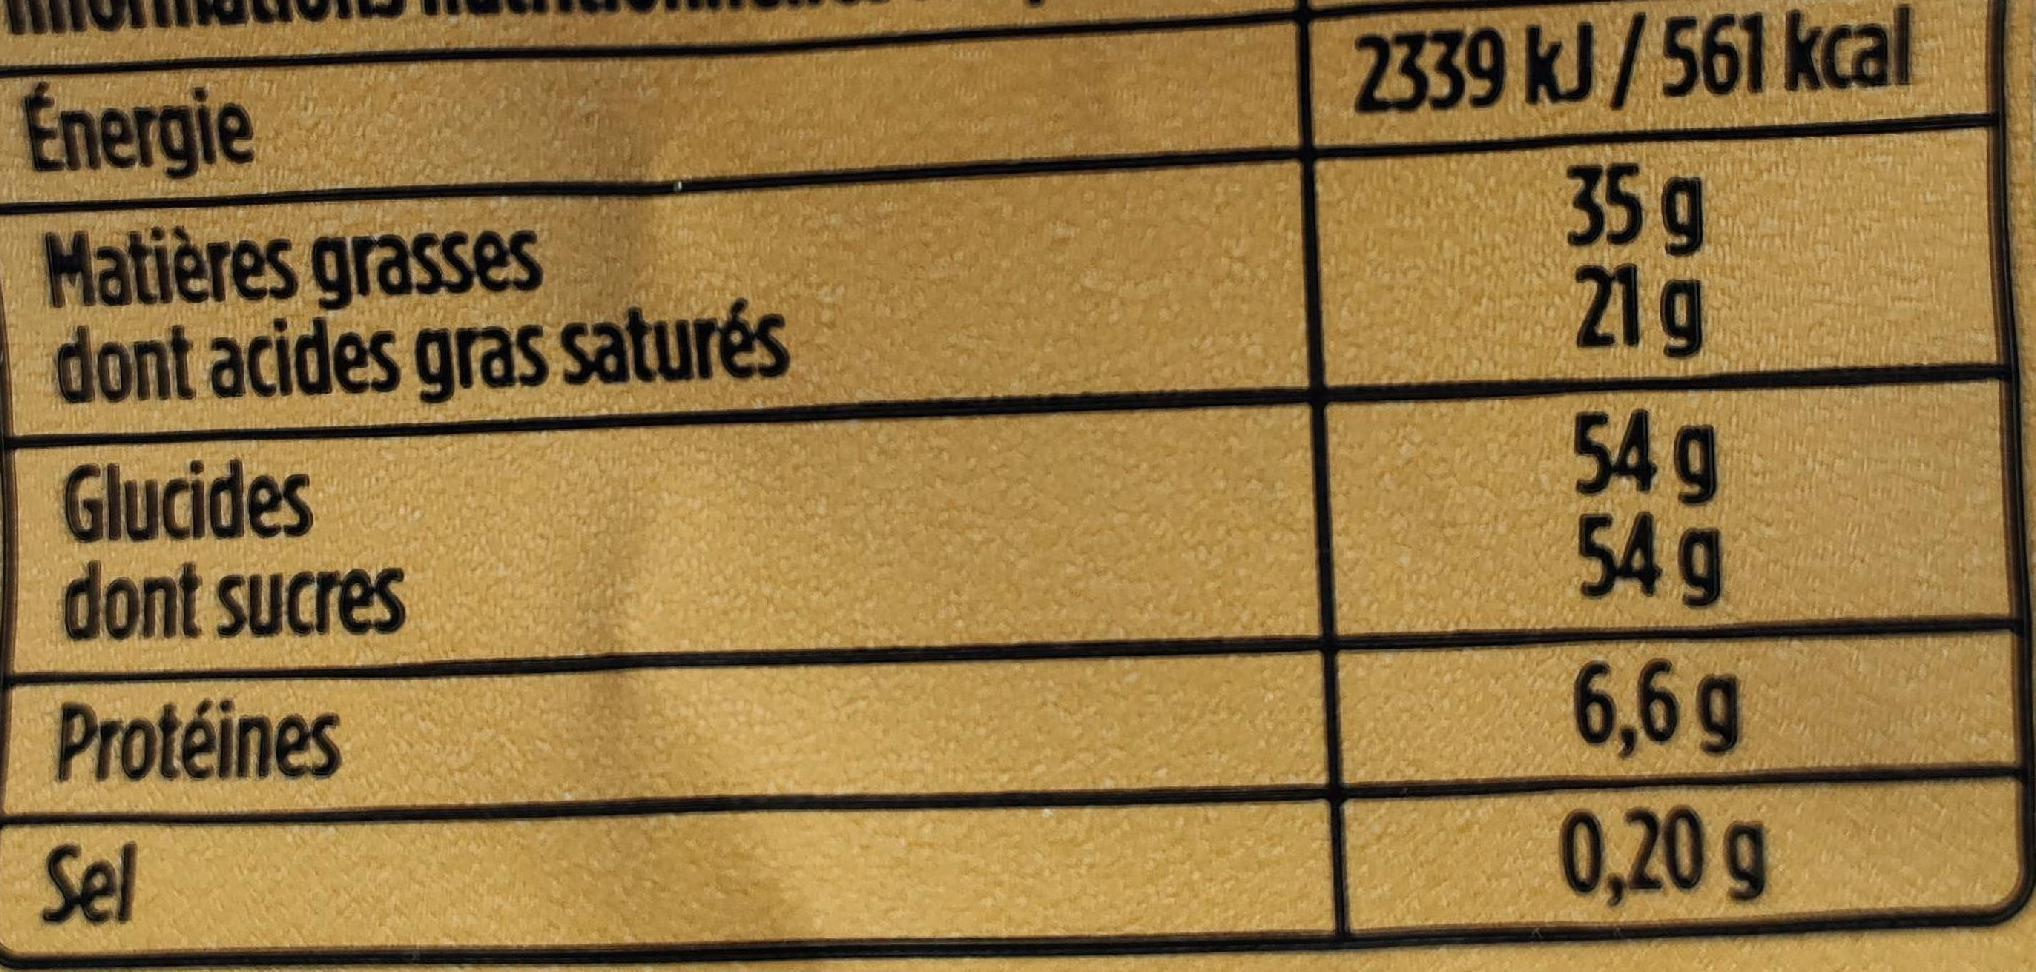column: (34, 71, 792, 917)
line: (23, 32, 1945, 147), (45, 819, 1761, 907), (56, 679, 1735, 767), (31, 199, 1728, 282), (58, 544, 1719, 619), (44, 440, 1720, 513), (36, 306, 1704, 369)
table: (3, 3, 2033, 949), (1356, 23, 1917, 908)
